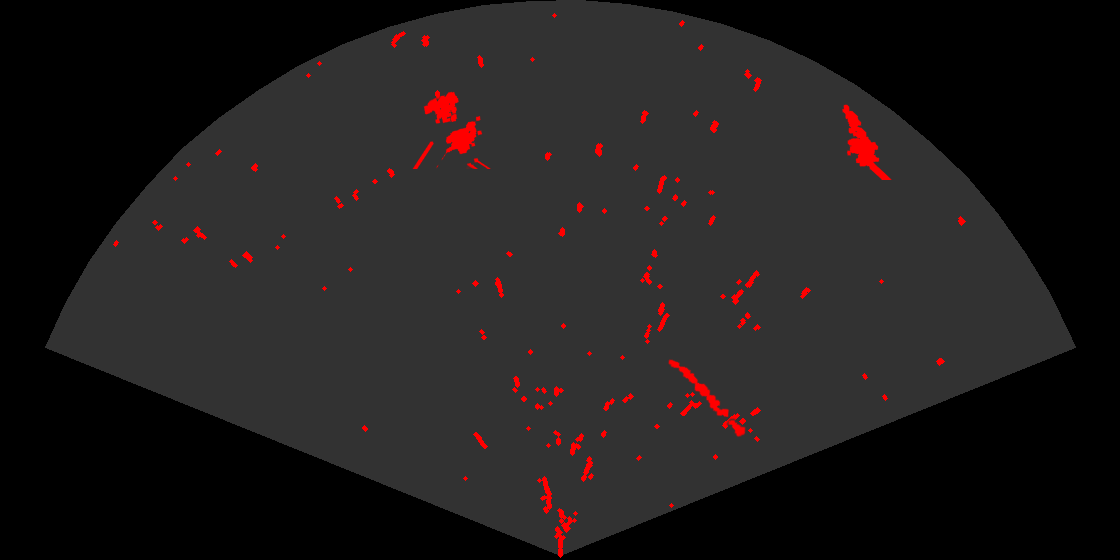cage: (411, 90, 492, 169)
chain: (667, 358, 747, 439)
frogman: (841, 103, 893, 180)
